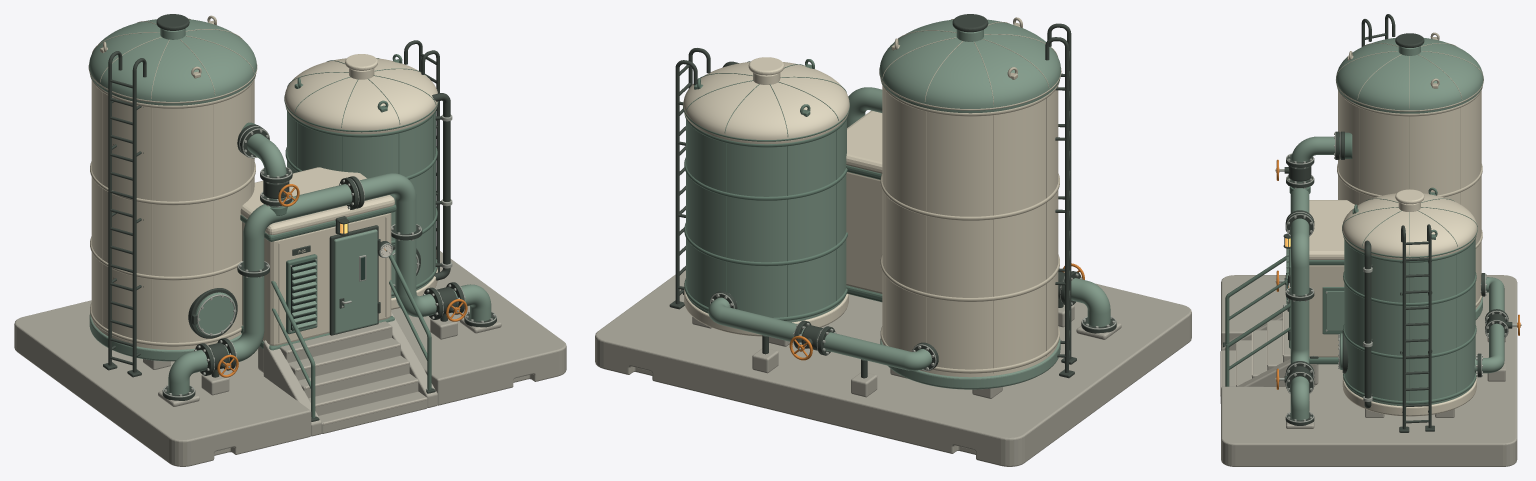
The model's file is water_station.glb.
3 renders of one model, left to right at view 1: azimuth 30°, elevation 25°; view 2: azimuth 150°, elevation 25°; view 3: azimuth 270°, elevation 25°, orthographic. The views are drawn at different scales.
Visible parts, largest first — view 1: Tank A tall ivory | cylindrical pressure vessel, Foundation | rounded concrete pad with stair recess, Tank A tall ivory | shallow domed cap, Pipe | continuous front pump manifold, Tank B short sage | shallow domed cap, Tank B short sage | cylindrical pressure vessel, Pump house | rounded ivory enclosure, Door | sage rounded service leaf, Pump house | shallow rounded ivory roof, Stair | step 02 of 05, Stair | step 01 of 05, Stair | step 03 of 05 (+21 smaller); view 2: Foundation | rounded concrete pad with stair recess, Tank A tall ivory | cylindrical pressure vessel, Tank B short sage | cylindrical pressure vessel, Tank A tall ivory | shallow domed cap, Tank B short sage | shallow domed cap, Pump house | rounded ivory enclosure, Pipe | rear tank balance line, Pipe | continuous front pump manifold, Tank A tall ivory | bottom skirt, Pump house | shallow rounded ivory roof, Tank A service ladder | curved side rail -1, Tank B service ladder | curved side rail +1 (+9 smaller); view 3: Foundation | rounded concrete pad with stair recess, Tank B short sage | cylindrical pressure vessel, Tank A tall ivory | cylindrical pressure vessel, Tank A tall ivory | shallow domed cap, Tank B short sage | shallow domed cap, Pipe | continuous front pump manifold, Pump house | shallow rounded ivory roof, Pump house | rounded ivory enclosure, Pipe | rear tank balance line, Tank B short sage | bottom skirt, Tank B | overflow return pipe, Pipe | tall tank supply to overhead tee (+20 smaller).
Boxes of the visible parts, left/top/right/bottom form: Tank A tall ivory | cylindrical pressure vessel: left=91, top=80, right=254, bottom=349; Foundation | rounded concrete pad with stair recess: left=14, top=250, right=566, bottom=466; Tank A tall ivory | shallow domed cap: left=89, top=19, right=256, bottom=105; Pipe | continuous front pump manifold: left=168, top=173, right=491, bottom=394; Tank B short sage | shallow domed cap: left=284, top=58, right=437, bottom=134; Tank B short sage | cylindrical pressure vessel: left=287, top=111, right=435, bottom=298; Pump house | rounded ivory enclosure: left=242, top=213, right=391, bottom=345; Door | sage rounded service leaf: left=333, top=229, right=377, bottom=333; Pump house | shallow rounded ivory roof: left=240, top=167, right=394, bottom=234; Stair | step 02 of 05: left=308, top=373, right=418, bottom=415; Stair | step 01 of 05: left=318, top=391, right=427, bottom=433; Stair | step 03 of 05: left=298, top=355, right=409, bottom=397; Foundation | rounded concrete pad with stair recess: left=595, top=270, right=1191, bottom=466; Tank A tall ivory | cylindrical pressure vessel: left=882, top=86, right=1058, bottom=377; Tank B short sage | cylindrical pressure vessel: left=686, top=119, right=846, bottom=322; Tank A tall ivory | shallow domed cap: left=879, top=19, right=1060, bottom=113; Tank B short sage | shallow domed cap: left=683, top=62, right=849, bottom=144; Pump house | rounded ivory enclosure: left=846, top=172, right=882, bottom=293; Pipe | rear tank balance line: left=708, top=297, right=932, bottom=370; Pipe | continuous front pump manifold: left=847, top=87, right=1110, bottom=326; Tank A tall ivory | bottom skirt: left=880, top=338, right=1060, bottom=388; Pump house | shallow rounded ivory roof: left=846, top=110, right=882, bottom=173; Tank A service ladder | curved side rail -1: left=1045, top=37, right=1068, bottom=372; Tank B service ladder | curved side rail +1: left=675, top=60, right=697, bottom=304; Foundation | rounded concrete pad with stair recess: left=1221, top=275, right=1517, bottom=466; Tank B short sage | cylindrical pressure vessel: left=1344, top=240, right=1475, bottom=406; Tank A tall ivory | cylindrical pressure vessel: left=1338, top=91, right=1481, bottom=309; Tank A tall ivory | shallow domed cap: left=1336, top=38, right=1483, bottom=113; Tank B short sage | shallow domed cap: left=1342, top=193, right=1477, bottom=259; Pipe | continuous front pump manifold: left=1290, top=188, right=1309, bottom=420; Pump house | shallow rounded ivory roof: left=1309, top=200, right=1354, bottom=259; Pump house | rounded ivory enclosure: left=1309, top=265, right=1344, bottom=357; Pipe | rear tank balance line: left=1474, top=277, right=1504, bottom=373; Tank B short sage | bottom skirt: left=1342, top=377, right=1476, bottom=415; Tank B | overflow return pipe: left=1364, top=240, right=1371, bottom=408; Pipe | tall tank supply to overhead tee: left=1291, top=136, right=1339, bottom=188.
Bounding box in the file's own units: 6.5 × 5.43 × 4.88.
